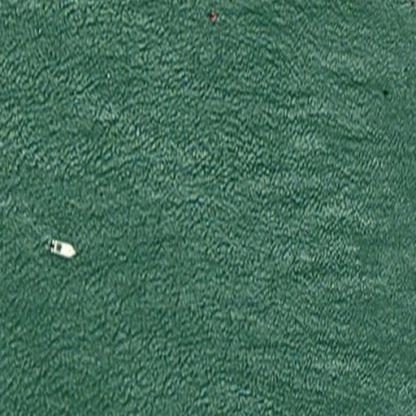ship: (48, 234, 77, 263)
